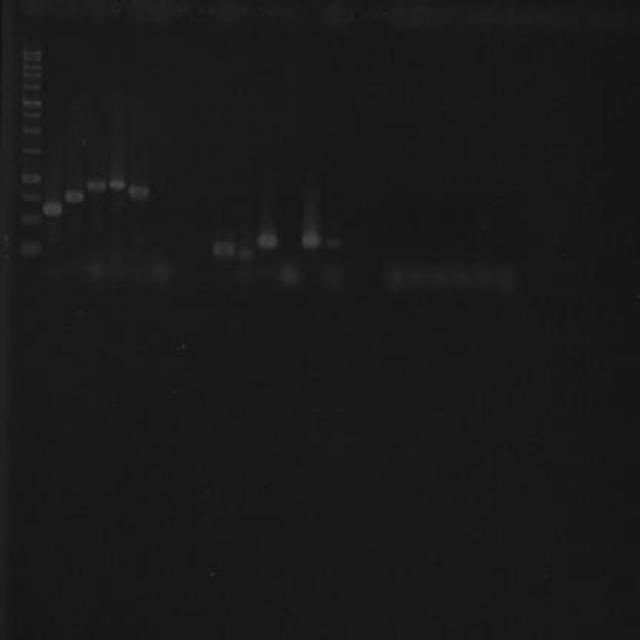B: (212, 235, 236, 260), (256, 231, 278, 251), (127, 183, 150, 202), (41, 200, 64, 217), (299, 232, 321, 248), (85, 177, 106, 192), (63, 188, 85, 202), (322, 236, 342, 250), (108, 178, 126, 192), (237, 248, 256, 261)
M: (13, 43, 44, 268)
P: (16, 238, 41, 256), (18, 210, 40, 227), (18, 168, 40, 184), (18, 144, 42, 158), (19, 122, 41, 136), (20, 94, 42, 108), (18, 189, 40, 202), (22, 44, 41, 58), (18, 109, 42, 120), (21, 82, 41, 93), (22, 72, 41, 82), (22, 64, 41, 72), (22, 56, 41, 62)
